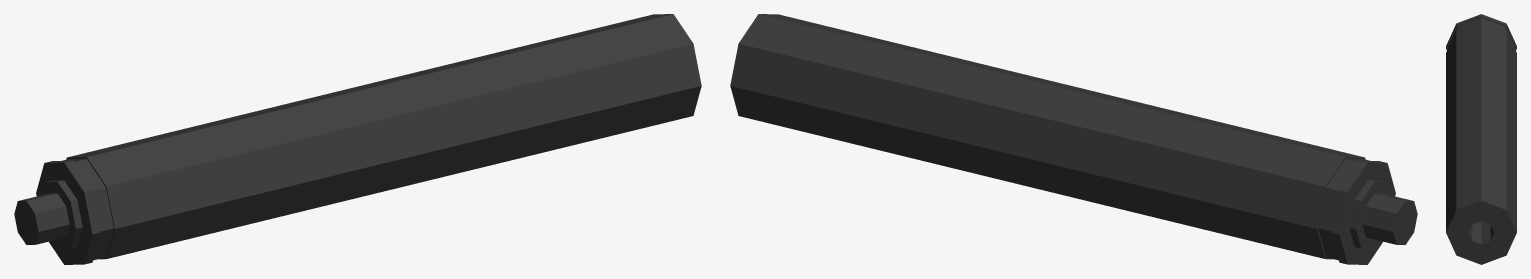
Rendered from Muffler_01_1.fbx.
3 renders of one model, left to right at view 1: azimuth 30°, elevation 25°; view 2: azimuth 150°, elevation 25°; view 3: azimuth 270°, elevation 25°, orthographic. The views are drawn at different scales.
Parts seen in each view (by area): view 1: Muffler_01_1; view 2: Muffler_01_1; view 3: Muffler_01_1.
Boxes of the visible parts, box(x1,y1,x2,y2) form: Muffler_01_1: box(14, 14, 701, 264); Muffler_01_1: box(730, 14, 1417, 264); Muffler_01_1: box(1446, 14, 1516, 264).
Size of the model in its own units: 0.2491 by 0.0376 by 0.0376.
